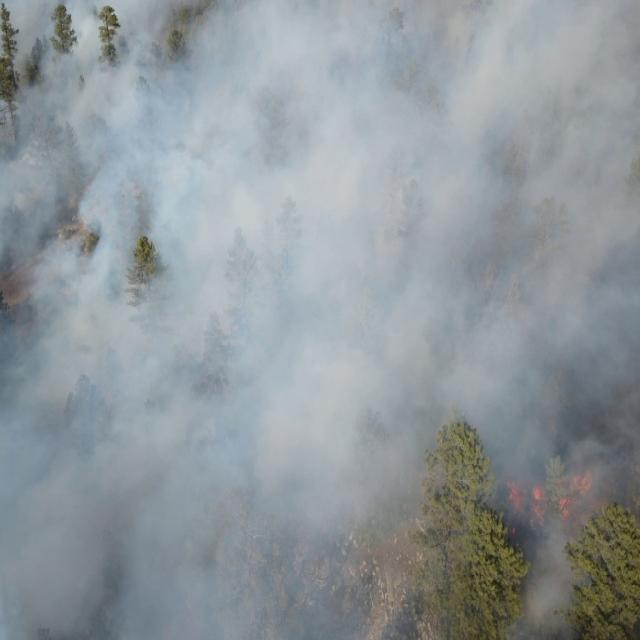fire: (500, 461, 594, 525)
smoke: (0, 0, 469, 640), (468, 0, 640, 524), (508, 526, 596, 640)
